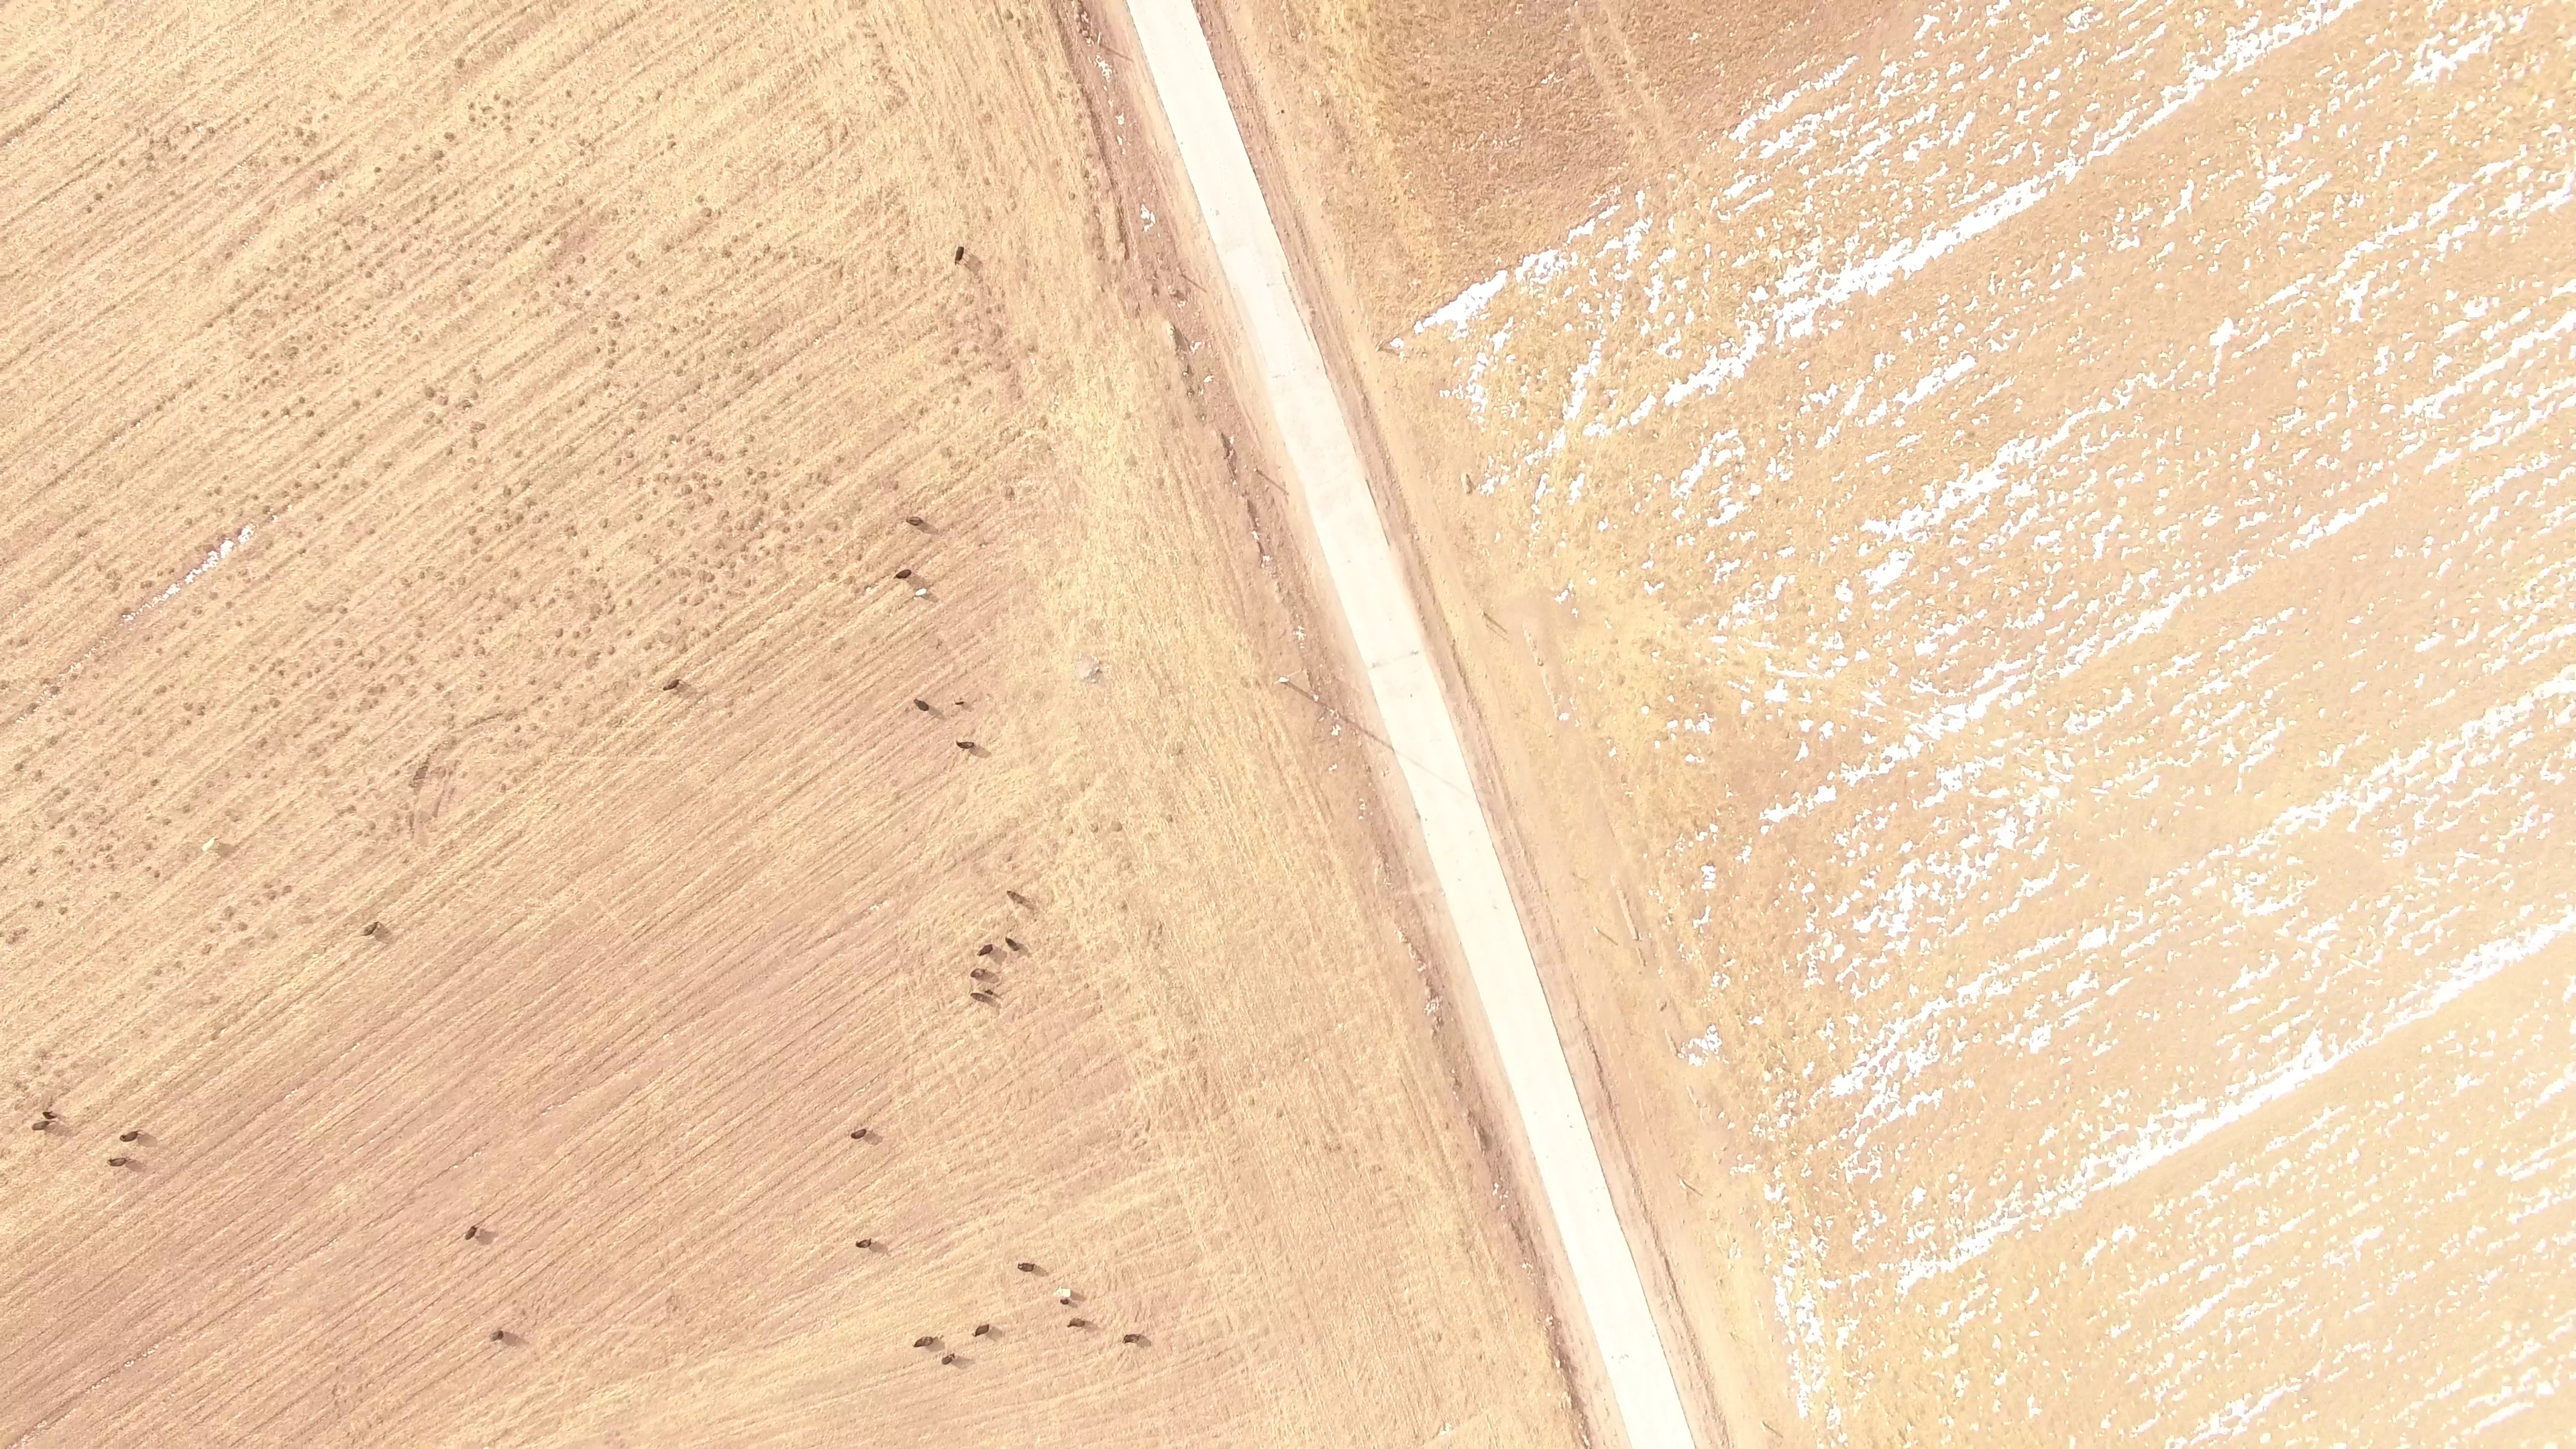sheep: (1004, 888, 1030, 907), (117, 1128, 146, 1144), (361, 918, 383, 940), (911, 1333, 938, 1350), (1002, 934, 1022, 955), (488, 1327, 511, 1346), (903, 514, 927, 530), (106, 1155, 132, 1172), (971, 1321, 993, 1340), (462, 1223, 484, 1242), (199, 833, 221, 853), (848, 1126, 870, 1144), (910, 696, 934, 715), (660, 676, 684, 694), (976, 941, 996, 961), (29, 1118, 56, 1133), (968, 965, 989, 982), (892, 566, 913, 584), (1120, 1330, 1143, 1346), (1015, 1260, 1038, 1276), (967, 990, 991, 1006), (952, 244, 967, 267), (1066, 1316, 1089, 1331), (1052, 1284, 1077, 1299), (938, 1350, 957, 1367), (954, 739, 977, 752), (39, 1108, 62, 1121), (913, 584, 930, 601), (853, 1236, 875, 1251), (983, 987, 998, 998), (1059, 1297, 1073, 1307)
unknown: (1840, 260, 1877, 294), (1941, 352, 1978, 384), (1949, 109, 1978, 148), (2257, 171, 2290, 203), (1805, 783, 1839, 812), (1761, 800, 1801, 825), (1724, 172, 1759, 201), (2234, 36, 2261, 72), (2424, 49, 2453, 80), (1912, 11, 1942, 42), (2207, 315, 2235, 348), (1582, 337, 1604, 377), (1509, 1208, 1534, 1246), (1621, 226, 1645, 264), (1781, 258, 1817, 283), (1474, 1120, 1496, 1157), (2050, 413, 2080, 443), (1841, 382, 1867, 415), (1873, 248, 1902, 276), (1996, 439, 2028, 464), (1566, 216, 1598, 241), (1807, 383, 1840, 407), (1821, 101, 1854, 123), (2449, 40, 2481, 62), (1630, 392, 1657, 420), (2055, 159, 2082, 185), (1841, 764, 1871, 788), (1876, 559, 1902, 589), (1415, 603, 1436, 641), (2266, 283, 2300, 304), (1864, 272, 1892, 299), (1565, 390, 1589, 420), (2324, 511, 2356, 533), (2178, 177, 2197, 211), (1787, 317, 1815, 339), (1170, 325, 1190, 355), (1083, 95, 1102, 126), (961, 252, 985, 277), (1913, 101, 1938, 125), (2069, 4, 2093, 29), (1829, 1075, 1854, 1098), (2112, 109, 2136, 133), (1699, 863, 1718, 892), (1774, 276, 1803, 296), (217, 531, 235, 561), (413, 758, 433, 782), (747, 508, 767, 532), (1877, 87, 1898, 111), (1114, 214, 1130, 246), (1933, 621, 1961, 638), (1712, 426, 1741, 445), (1711, 447, 1734, 469), (215, 840, 239, 861), (1915, 637, 1940, 656), (1790, 297, 1815, 317), (1655, 246, 1679, 265), (2302, 176, 2326, 197), (233, 523, 254, 545), (1862, 517, 1889, 533), (1244, 496, 1260, 525), (1796, 136, 1817, 158), (2183, 75, 2200, 102), (1882, 743, 1905, 763), (1568, 366, 1587, 388), (1662, 331, 1684, 350), (2408, 58, 2426, 83), (1764, 455, 1785, 475), (1466, 383, 1484, 405), (1491, 329, 1510, 351), (1895, 117, 1916, 136), (2284, 18, 2304, 39), (1851, 917, 1873, 934), (1833, 894, 1851, 916), (1924, 791, 1946, 808), (1768, 574, 1785, 597), (2224, 563, 2242, 585), (1567, 477, 1586, 501), (2119, 234, 2143, 251), (1945, 60, 1967, 78), (1762, 686, 1786, 703), (1403, 563, 1418, 588), (1895, 511, 1911, 535), (1601, 237, 1625, 252), (1697, 715, 1716, 735), (1750, 285, 1770, 305), (1900, 145, 1919, 164), (1915, 133, 1935, 152), (1096, 39, 1117, 58), (1911, 1185, 1928, 1206), (2246, 432, 2263, 453), (1773, 318, 1787, 344), (2288, 121, 2305, 142), (1878, 62, 1900, 80), (1075, 1, 1093, 21), (1762, 1185, 1784, 1201), (1693, 1036, 1717, 1052), (2247, 201, 2271, 215), (1662, 1256, 1676, 1281), (1800, 1059, 1817, 1079), (1425, 980, 1442, 1000), (1868, 401, 1888, 419), (2461, 301, 2479, 321), (1538, 269, 1556, 286), (2377, 140, 2394, 159), (1858, 119, 1877, 136), (2013, 107, 2033, 125), (1083, 27, 1101, 46), (1796, 739, 1811, 760), (1733, 599, 1753, 616), (1720, 558, 1741, 574), (1936, 493, 1957, 509), (1595, 205, 1617, 221), (2030, 32, 2051, 47), (1577, 1430, 1594, 1447), (1817, 721, 1835, 739), (1798, 716, 1816, 735), (2241, 455, 2257, 472), (1550, 432, 1568, 450), (2143, 374, 2161, 391), (2255, 331, 2271, 348), (1898, 327, 1915, 344), (1171, 286, 1188, 304), (430, 148, 447, 164), (55, 91, 72, 107), (1948, 78, 1966, 95), (1976, 66, 1994, 83), (2046, 65, 2063, 83), (1776, 1111, 1792, 1130), (1739, 843, 1754, 861), (1470, 362, 1486, 381), (1872, 351, 1887, 370), (1609, 300, 1623, 319), (2068, 262, 2085, 281), (1138, 208, 1158, 224), (2071, 50, 2086, 69), (1073, 15, 1090, 34), (1210, 1, 1226, 19), (1776, 544, 1798, 559), (2092, 530, 2106, 553), (610, 309, 625, 331), (1780, 303, 1794, 323), (1633, 187, 1648, 209), (1992, 1, 2012, 14), (1096, 138, 1110, 160), (1850, 1226, 1869, 1242), (1464, 1108, 1481, 1125), (1686, 1051, 1705, 1067), (1800, 880, 1817, 896), (1872, 815, 1888, 833), (25, 700, 40, 717), (1748, 480, 1764, 498), (422, 386, 439, 401), (1389, 335, 1407, 350), (1662, 309, 1677, 327), (2343, 286, 2361, 303), (1768, 246, 1785, 262), (2163, 209, 2178, 226), (2010, 142, 2026, 160), (2, 129, 18, 146), (2258, 28, 2273, 46), (1831, 941, 1846, 960), (470, 714, 488, 729), (1738, 697, 1752, 717), (1464, 477, 1477, 496), (2288, 351, 2301, 369), (1803, 195, 1815, 216), (1852, 1134, 1868, 1150), (1673, 276, 1689, 291), (2047, 87, 2062, 102), (2027, 1038, 2045, 1053), (1803, 916, 1817, 934), (956, 698, 973, 712), (138, 578, 156, 592), (2032, 533, 2049, 547), (2251, 512, 2268, 525), (1814, 434, 1828, 451), (182, 376, 199, 392), (2047, 278, 2065, 292), (2018, 276, 2033, 294), (2359, 238, 2377, 253), (1856, 159, 1871, 178), (2084, 100, 2102, 114), (2110, 50, 2129, 63), (1448, 642, 1460, 661), (1409, 585, 1423, 604), (1360, 394, 1373, 413), (2375, 345, 2387, 364), (2358, 276, 2371, 295), (2114, 205, 2127, 224), (1902, 195, 1915, 213), (2438, 195, 2451, 215), (1750, 1014, 1765, 1027), (1821, 932, 1835, 948), (1861, 875, 1877, 890), (1833, 833, 1849, 848), (119, 605, 134, 619), (1837, 592, 1854, 604), (400, 576, 414, 590), (1879, 462, 1893, 477), (2116, 394, 2132, 408), (1986, 382, 2003, 397), (1638, 321, 1653, 336), (223, 303, 238, 317), (2049, 261, 2064, 274), (1733, 254, 1748, 268), (719, 246, 735, 261), (1807, 237, 1821, 252), (1631, 218, 1648, 231), (2129, 211, 2145, 224), (2504, 198, 2519, 212), (1805, 175, 1818, 191), (2491, 160, 2508, 173), (2264, 159, 2279, 176), (2076, 119, 2092, 134), (28, 114, 44, 128), (2016, 74, 2029, 91), (2272, 21, 2287, 35), (1984, 15, 2000, 29), (1857, 840, 1871, 859), (406, 812, 417, 829), (2030, 610, 2047, 623), (1183, 363, 1197, 380), (1308, 307, 1320, 326), (1568, 249, 1580, 266), (441, 129, 458, 142), (1222, 82, 1235, 99), (454, 56, 468, 72), (1911, 48, 1929, 60), (608, 337, 619, 356), (1121, 245, 1133, 263), (1761, 1070, 1774, 1084), (1803, 975, 1817, 988), (33, 898, 47, 911), (1694, 829, 1707, 844), (1758, 822, 1771, 837), (1707, 821, 1721, 835), (1886, 800, 1900, 814), (1876, 760, 1892, 774), (12, 760, 27, 775), (1339, 712, 1353, 727), (366, 684, 380, 698), (676, 643, 690, 657), (109, 580, 122, 595), (203, 541, 218, 556), (513, 511, 527, 526), (260, 502, 274, 517), (380, 459, 395, 472), (1733, 444, 1748, 459), (303, 407, 317, 421), (280, 405, 293, 419), (576, 397, 588, 410), (165, 392, 178, 405), (372, 386, 385, 400), (744, 370, 757, 384), (1953, 321, 1967, 334), (1578, 303, 1593, 316), (2443, 290, 2457, 304), (2078, 232, 2091, 246), (1754, 224, 1768, 239), (2451, 184, 2465, 199), (1254, 176, 1269, 189), (2031, 79, 2045, 93), (1974, 48, 1989, 62), (1062, 44, 1075, 58), (1579, 1415, 1592, 1431), (1843, 1168, 1856, 1184), (1594, 1067, 1607, 1082), (1023, 901, 1038, 914), (97, 843, 113, 855), (1664, 718, 1680, 731), (196, 702, 208, 718), (49, 683, 62, 698), (2279, 606, 2294, 619), (2061, 592, 2076, 604), (1833, 584, 1849, 597), (165, 584, 180, 597), (336, 454, 349, 471), (350, 397, 363, 412), (1665, 215, 1676, 232), (317, 168, 329, 183), (1916, 1093, 1933, 1105), (1604, 1092, 1615, 1110), (2191, 64, 2208, 75), (2514, 17, 2524, 33), (1488, 1168, 1500, 1183), (1452, 1077, 1466, 1091), (1705, 1031, 1720, 1044), (1416, 953, 1428, 965), (237, 920, 250, 934), (280, 882, 294, 896), (1381, 853, 1392, 866), (1114, 821, 1126, 835), (148, 776, 162, 790), (1683, 752, 1697, 765), (1860, 735, 1873, 746), (1639, 704, 1652, 716), (270, 697, 282, 711), (157, 684, 170, 696), (1443, 681, 1456, 695), (1460, 675, 1471, 688), (366, 659, 378, 672), (705, 572, 718, 586), (183, 572, 196, 585), (466, 523, 480, 539), (682, 484, 696, 498), (1483, 481, 1497, 494), (1965, 478, 1978, 492), (1778, 471, 1792, 482), (834, 454, 847, 466), (1862, 453, 1877, 465), (476, 420, 489, 433), (2323, 410, 2338, 423), (469, 390, 482, 403), (2294, 378, 2310, 390), (1930, 365, 1944, 377), (1654, 343, 1668, 356), (288, 343, 301, 358), (1988, 340, 2003, 353), (994, 326, 1006, 340), (1161, 319, 1173, 333), (1684, 308, 1697, 322), (1303, 294, 1315, 307), (1939, 292, 1951, 305), (1148, 284, 1162, 297), (1553, 256, 1568, 269), (2162, 240, 2176, 254), (2449, 226, 2461, 240), (339, 218, 354, 229), (2426, 205, 2440, 217), (2141, 205, 2154, 217), (92, 190, 105, 204), (2043, 168, 2056, 182), (1800, 162, 1812, 177), (1990, 139, 2002, 152), (1241, 132, 1252, 146), (305, 130, 319, 144), (1939, 128, 1952, 142), (2000, 101, 2012, 115), (2544, 96, 2556, 110), (563, 87, 574, 101), (1925, 79, 1939, 91), (2023, 44, 2037, 56), (2154, 23, 2167, 37), (2304, 9, 2316, 22), (429, 806, 441, 820), (2038, 438, 2055, 450), (2079, 434, 2090, 450), (2280, 419, 2296, 431), (2241, 256, 2253, 272), (1702, 241, 1713, 257), (2435, 233, 2451, 245), (2204, 66, 2216, 82), (1525, 1240, 1538, 1252), (1904, 1104, 1915, 1116), (1434, 1017, 1447, 1030), (1710, 973, 1721, 985), (1850, 957, 1862, 969), (9, 934, 21, 946), (1699, 912, 1711, 925), (1118, 900, 1130, 913), (1786, 881, 1797, 894), (1846, 847, 1858, 859), (367, 822, 379, 833), (1824, 769, 1837, 783), (1175, 745, 1187, 757), (257, 738, 269, 750), (447, 736, 460, 749), (248, 703, 260, 715), (182, 701, 195, 714), (377, 683, 389, 696), (17, 637, 28, 649), (1716, 616, 1729, 628), (494, 611, 505, 623), (339, 604, 350, 617), (209, 590, 221, 602), (2210, 582, 2222, 594), (200, 561, 212, 574), (1956, 555, 1970, 568), (1256, 544, 1268, 558), (739, 543, 749, 555), (471, 535, 484, 547), (366, 526, 378, 537), (315, 513, 327, 525), (1670, 508, 1682, 520), (1716, 497, 1729, 509), (890, 481, 902, 493), (2261, 469, 2273, 481), (1383, 465, 1394, 477), (1907, 432, 1919, 445), (667, 432, 680, 444), (315, 427, 327, 440), (1587, 423, 1600, 435), (152, 402, 165, 415), (296, 394, 308, 407), (2123, 376, 2136, 388), (1202, 374, 1214, 385), (323, 364, 335, 377), (1324, 349, 1335, 360), (2445, 324, 2457, 335), (1562, 321, 1575, 333), (1929, 320, 1940, 333), (203, 319, 216, 331), (1992, 315, 2004, 328), (1986, 281, 1997, 294), (564, 275, 576, 287), (363, 269, 375, 281), (374, 258, 386, 270), (2055, 249, 2068, 262), (2436, 242, 2449, 254), (662, 242, 675, 255), (2406, 219, 2418, 231), (83, 204, 95, 216), (1710, 194, 1721, 207), (1254, 166, 1267, 179), (1937, 164, 1949, 178), (396, 153, 408, 164), (144, 152, 158, 164), (1736, 148, 1749, 162), (667, 138, 679, 150), (578, 137, 588, 149), (294, 125, 307, 139), (1090, 123, 1102, 137), (503, 123, 515, 134), (2159, 89, 2172, 101), (2016, 11, 2028, 23), (2094, 10, 2105, 22), (1003, 10, 1016, 23), (1984, 6, 1996, 18), (1855, 1165, 1868, 1176), (209, 1030, 220, 1043), (25, 866, 39, 878), (498, 782, 509, 796), (1652, 738, 1663, 751), (555, 627, 566, 640), (469, 437, 480, 451), (1823, 426, 1839, 437), (2098, 402, 2112, 415), (1937, 335, 1951, 345), (460, 277, 474, 288), (2333, 192, 2345, 205), (427, 192, 439, 205), (2043, 112, 2054, 125), (2328, 96, 2343, 107), (1243, 80, 1255, 95), (2365, 76, 2377, 91), (2143, 46, 2156, 57), (2123, 46, 2137, 57), (1669, 1281, 1680, 1294), (1872, 1216, 1884, 1227), (1494, 1152, 1505, 1162), (1823, 1026, 1835, 1038), (1409, 900, 1419, 912), (262, 881, 274, 892), (152, 869, 163, 881), (144, 841, 155, 853), (68, 827, 79, 839), (1862, 807, 1873, 817), (180, 806, 193, 816), (345, 803, 358, 814), (60, 788, 72, 799), (414, 779, 425, 790), (32, 769, 45, 780), (439, 768, 449, 780), (309, 744, 320, 754), (47, 734, 59, 747), (1682, 720, 1693, 732), (183, 717, 195, 729), (135, 706, 146, 718), (434, 681, 445, 694), (305, 669, 315, 681), (1455, 665, 1466, 676), (266, 664, 278, 675), (1947, 645, 1960, 655), (1974, 610, 1987, 621), (874, 600, 886, 611), (511, 600, 521, 612), (223, 598, 235, 609), (625, 597, 635, 608), (1588, 575, 1599, 586), (828, 570, 839, 582), (511, 568, 522, 580), (192, 567, 203, 577), (1644, 559, 1656, 570), (297, 545, 309, 556), (74, 529, 86, 540), (781, 502, 792, 513), (279, 502, 290, 515), (1267, 495, 1278, 508), (504, 486, 515, 498), (211, 486, 223, 497), (291, 479, 303, 491), (360, 478, 371, 488), (1230, 471, 1241, 482), (1253, 467, 1266, 478), (596, 467, 608, 478), (313, 461, 323, 472), (445, 445, 456, 458), (356, 431, 367, 442), (1965, 429, 1978, 441), (627, 425, 637, 437), (1894, 418, 1905, 429), (1628, 417, 1640, 427), (129, 417, 140, 430), (1556, 411, 1566, 423), (440, 397, 451, 409), (2347, 396, 2358, 408), (1974, 394, 1987, 405), (1799, 393, 1809, 405), (661, 349, 672, 361), (951, 344, 962, 358), (319, 343, 330, 354), (983, 306, 995, 317), (1969, 298, 1980, 309), (281, 292, 292, 304), (582, 288, 594, 299), (1564, 284, 1575, 297), (1183, 284, 1194, 295), (251, 284, 262, 295), (1615, 271, 1628, 282), (1701, 270, 1712, 280), (889, 265, 900, 276), (356, 259, 366, 270), (299, 252, 309, 264), (223, 249, 235, 261), (397, 244, 409, 256), (502, 244, 515, 256), (341, 242, 354, 254), (2190, 235, 2202, 247), (521, 232, 531, 244), (1717, 213, 1730, 223), (704, 209, 714, 221), (2347, 199, 2357, 210), (575, 196, 586, 209), (1829, 187, 1841, 198), (982, 178, 993, 189), (2254, 168, 2265, 180), (372, 164, 384, 176), (2426, 150, 2438, 161), (2029, 139, 2040, 151), (841, 127, 851, 140), (2334, 127, 2346, 140), (1839, 126, 1850, 139), (1242, 121, 1252, 132), (467, 100, 477, 111), (502, 98, 514, 110), (1858, 96, 1869, 108), (2343, 88, 2354, 101), (2015, 88, 2027, 101), (654, 87, 665, 99), (1872, 86, 1884, 97), (1801, 79, 1813, 90), (1902, 72, 1914, 83), (2183, 50, 2194, 61), (1058, 30, 1069, 43), (1091, 25, 1102, 37), (2308, 23, 2319, 34), (2080, 20, 2092, 32), (2194, 9, 2204, 21), (1694, 1352, 1705, 1363), (1535, 1287, 1546, 1297), (1540, 1267, 1550, 1278), (1527, 1255, 1538, 1265), (1657, 1248, 1668, 1259), (1641, 1207, 1651, 1217), (1501, 1161, 1511, 1172), (1819, 1138, 1829, 1148), (1752, 1123, 1762, 1134), (1486, 1120, 1496, 1130), (45, 1099, 56, 1110), (32, 1064, 42, 1074), (1955, 1040, 1966, 1051), (1430, 1028, 1441, 1039), (1721, 977, 1731, 987), (1425, 972, 1435, 983), (1805, 968, 1816, 978), (1724, 959, 1734, 969), (1794, 951, 1805, 963), (207, 926, 217, 936), (19, 926, 30, 936), (304, 916, 315, 926), (226, 908, 237, 919), (60, 904, 70, 914), (267, 893, 278, 904), (1518, 892, 1528, 903), (111, 892, 121, 902), (55, 847, 66, 857), (1686, 839, 1696, 850), (1849, 826, 1860, 837), (1091, 825, 1102, 836), (47, 822, 58, 833), (56, 814, 67, 824), (1853, 812, 1864, 823), (1485, 804, 1495, 814), (1792, 790, 1803, 800), (91, 783, 102, 793), (407, 780, 417, 790), (223, 770, 233, 780), (103, 768, 113, 779), (1364, 765, 1375, 775), (313, 750, 323, 760), (1607, 749, 1617, 759), (142, 749, 152, 759), (290, 731, 301, 741), (1330, 727, 1341, 738), (66, 708, 78, 718), (370, 696, 381, 707), (328, 688, 339, 699), (527, 678, 538, 688), (40, 676, 52, 687), (1277, 674, 1289, 685), (276, 667, 287, 678), (1093, 667, 1104, 678), (276, 657, 286, 667), (584, 655, 594, 665), (2074, 651, 2084, 661), (645, 643, 655, 653), (934, 639, 945, 649), (414, 630, 425, 641), (2251, 625, 2261, 635), (589, 614, 599, 624), (595, 605, 605, 616), (325, 604, 335, 616), (2084, 601, 2094, 612), (2037, 597, 2047, 607), (1300, 596, 1311, 606), (547, 596, 558, 606), (680, 595, 690, 606), (160, 591, 171, 602), (1283, 590, 1294, 600), (1645, 584, 1656, 594), (846, 573, 857, 584), (417, 572, 428, 582), (262, 572, 273, 582), (2052, 561, 2063, 572), (485, 553, 495, 563), (1707, 548, 1717, 559), (777, 541, 788, 551), (2290, 539, 2300, 549), (2046, 532, 2056, 543), (570, 529, 580, 539), (1596, 521, 1606, 531), (2200, 515, 2210, 526), (635, 513, 645, 523), (1814, 507, 1825, 518), (1533, 506, 1543, 517), (524, 500, 534, 511), (2240, 497, 2250, 507), (2267, 492, 2277, 502), (250, 492, 261, 503), (1006, 488, 1018, 499), (650, 487, 660, 498), (1925, 486, 1935, 497), (341, 482, 352, 493), (699, 482, 709, 492), (1955, 480, 1965, 490), (1948, 480, 1958, 490), (1157, 478, 1167, 489), (820, 476, 831, 486), (1499, 475, 1509, 485), (1652, 472, 1662, 482), (759, 472, 769, 482), (331, 470, 341, 481), (2135, 470, 2145, 480), (2328, 459, 2339, 469), (613, 458, 624, 469), (716, 453, 728, 464), (661, 450, 672, 460), (513, 449, 524, 461), (568, 445, 578, 456), (1758, 437, 1768, 447), (1953, 427, 1964, 438), (2302, 425, 2313, 435), (1352, 420, 1362, 431), (1041, 418, 1051, 428), (434, 415, 445, 427), (1864, 415, 1874, 425), (916, 407, 926, 418), (1803, 402, 1814, 414), (720, 400, 730, 410), (2412, 398, 2422, 409), (1186, 385, 1197, 396), (693, 382, 704, 392), (603, 378, 613, 388), (1803, 378, 1813, 388), (2002, 376, 2014, 387), (259, 376, 269, 386), (959, 374, 969, 384), (794, 373, 804, 384), (270, 368, 282, 378), (674, 367, 684, 377), (470, 365, 480, 375), (1796, 362, 1807, 372), (1003, 361, 1014, 372), (606, 357, 618, 368), (2229, 351, 2240, 361), (262, 351, 272, 361), (1028, 344, 1038, 355), (1376, 343, 1387, 354), (305, 332, 315, 343), (1599, 327, 1609, 337), (947, 320, 957, 330), (1805, 312, 1815, 323), (2348, 311, 2358, 322), (1132, 309, 1142, 319), (533, 309, 543, 319), (1596, 306, 1606, 316), (313, 303, 323, 313), (362, 303, 373, 313), (661, 284, 671, 296), (553, 280, 563, 290), (2208, 264, 2218, 274), (1691, 264, 1701, 274), (1613, 260, 1623, 270), (1595, 250, 1605, 260), (1719, 248, 1729, 259), (542, 237, 553, 248), (237, 237, 248, 247), (1089, 233, 1099, 244), (330, 228, 341, 239), (488, 227, 500, 239), (413, 216, 423, 227), (1644, 215, 1655, 227), (428, 205, 438, 216), (1260, 191, 1271, 202), (2296, 184, 2306, 194), (1902, 184, 1912, 194), (506, 182, 517, 193), (2204, 173, 2214, 183), (1966, 170, 1976, 180), (1844, 166, 1855, 177), (1830, 166, 1841, 176), (435, 165, 445, 175), (307, 158, 318, 168), (116, 157, 127, 168), (2076, 156, 2086, 166), (1882, 156, 1892, 167), (292, 155, 303, 166), (280, 154, 290, 165), (315, 153, 325, 163), (577, 149, 588, 159), (2065, 147, 2075, 158), (2278, 138, 2289, 148), (147, 137, 157, 147), (162, 136, 172, 146), (527, 135, 537, 145), (2068, 128, 2078, 138), (1827, 127, 1838, 138), (208, 127, 219, 138), (480, 120, 490, 130), (2309, 119, 2319, 129), (1115, 117, 1126, 127), (243, 116, 253, 127), (502, 111, 513, 123), (262, 101, 272, 111), (894, 99, 904, 110), (1764, 83, 1774, 95), (732, 80, 743, 91), (1540, 76, 1550, 87), (2328, 74, 2339, 85), (1931, 68, 1941, 78), (1793, 62, 1805, 73), (1097, 58, 1108, 70), (510, 38, 520, 48), (2146, 32, 2156, 42), (1690, 30, 1701, 41), (869, 30, 879, 40), (612, 21, 623, 32), (1405, 18, 1415, 28), (1055, 17, 1065, 28), (1220, 15, 1230, 26), (2182, 12, 2193, 22), (1951, 11, 1962, 21), (1955, 5, 1965, 16), (1719, 1426, 1729, 1438), (56, 794, 66, 804), (313, 480, 323, 492), (705, 447, 715, 460), (636, 413, 647, 423), (971, 343, 981, 355), (2110, 224, 2121, 234), (1102, 158, 1112, 169), (468, 114, 478, 125), (1505, 1215, 1515, 1225), (1935, 1090, 1945, 1100), (13, 1081, 23, 1091), (1440, 1048, 1450, 1058), (152, 969, 163, 979), (1429, 962, 1441, 972), (270, 931, 280, 941), (1156, 923, 1166, 933), (1829, 910, 1839, 920), (1901, 863, 1913, 873), (1845, 858, 1855, 869), (160, 818, 171, 828), (1166, 815, 1176, 825), (224, 808, 234, 819), (338, 806, 348, 816), (445, 768, 455, 778), (983, 749, 993, 759), (514, 723, 524, 733), (1321, 706, 1331, 716), (535, 694, 545, 704), (1296, 686, 1306, 696), (1307, 676, 1317, 686), (1087, 671, 1097, 682), (407, 653, 417, 663), (1858, 651, 1868, 661), (180, 649, 191, 659), (606, 648, 616, 658), (719, 643, 729, 653), (142, 635, 152, 645), (176, 622, 186, 632), (1481, 610, 1491, 620), (2055, 600, 2065, 611), (852, 586, 862, 596), (167, 566, 178, 576), (470, 547, 480, 557), (1726, 533, 1736, 543), (296, 530, 306, 540), (1883, 527, 1894, 537), (1252, 525, 1264, 535), (784, 525, 794, 535), (2298, 524, 2308, 535), (737, 523, 747, 533), (831, 523, 841, 533), (184, 518, 195, 528), (279, 488, 289, 498), (636, 477, 646, 487), (745, 468, 755, 478), (2192, 452, 2202, 463), (1781, 437, 1791, 447), (747, 433, 757, 443), (2291, 412, 2301, 422), (428, 410, 438, 420), (259, 410, 270, 420), (2081, 407, 2091, 417), (2062, 406, 2072, 417), (640, 399, 650, 411), (242, 374, 252, 384), (501, 364, 511, 374), (941, 358, 951, 368), (248, 350, 258, 360), (1384, 346, 1394, 356), (2065, 335, 2075, 345), (767, 327, 778, 337), (669, 325, 680, 335), (360, 321, 371, 331), (352, 312, 362, 323), (631, 293, 642, 303), (291, 280, 301, 290), (1587, 268, 1597, 278), (1648, 261, 1658, 271), (2013, 258, 2023, 268), (2076, 253, 2086, 263), (1096, 240, 1107, 250), (551, 229, 561, 239), (2130, 224, 2140, 234), (694, 224, 704, 234), (1775, 222, 1785, 232), (1978, 204, 1988, 215), (2374, 162, 2384, 172), (1246, 144, 1256, 154), (1938, 118, 1948, 128), (1881, 111, 1891, 121), (482, 103, 492, 113), (1322, 97, 1332, 107), (492, 93, 502, 103), (2245, 85, 2255, 95), (1220, 73, 1230, 84), (1545, 72, 1555, 82), (1070, 68, 1080, 78), (1238, 65, 1248, 75), (2113, 44, 2123, 54), (2229, 42, 2239, 52), (1934, 30, 1945, 40), (1091, 15, 1101, 25), (332, 7, 342, 17), (1938, 1, 1948, 9), (2235, 1, 2246, 9), (1, 857, 7, 869), (1709, 1401, 1719, 1411), (1540, 1279, 1550, 1289), (1703, 904, 1713, 914), (344, 723, 354, 733), (357, 659, 367, 669), (627, 451, 637, 461), (465, 401, 475, 411), (753, 221, 763, 231), (327, 171, 337, 181), (2214, 66, 2224, 76), (2245, 58, 2255, 68), (859, 1, 869, 7), (1, 455, 5, 466), (1, 141, 6, 151)
